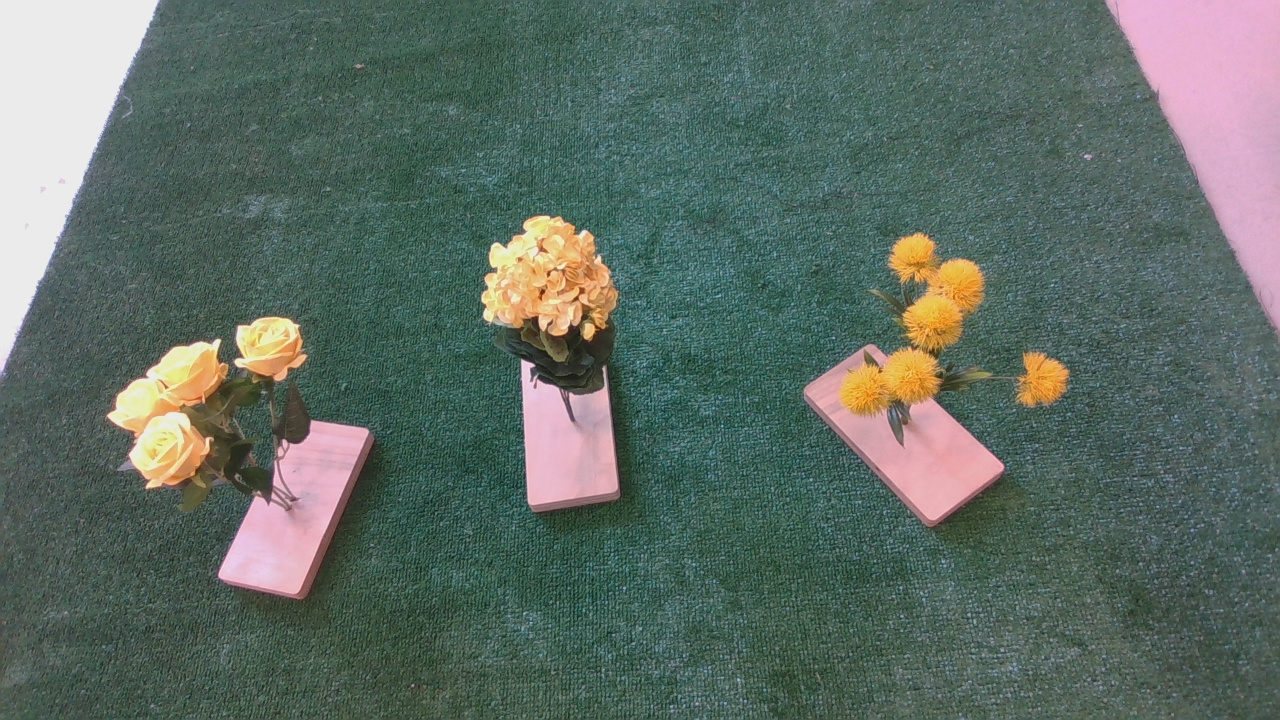dandelion: (847, 234, 1078, 425)
geranium: (482, 218, 633, 414)
rose: (93, 307, 332, 519)
